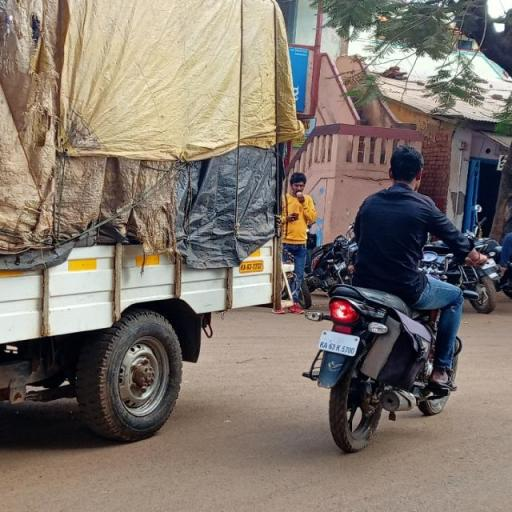bike: (307, 132, 483, 454)
numberplate: (318, 328, 361, 362)
withouthelmet: (388, 146, 422, 187)
